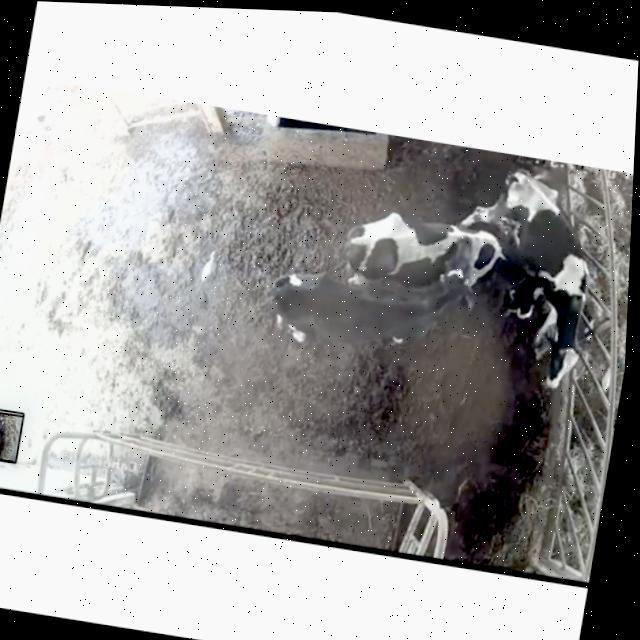propping: (411, 217, 492, 327)
